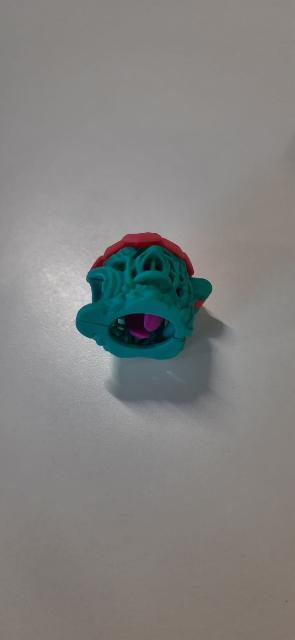House: (66, 212, 234, 400)
